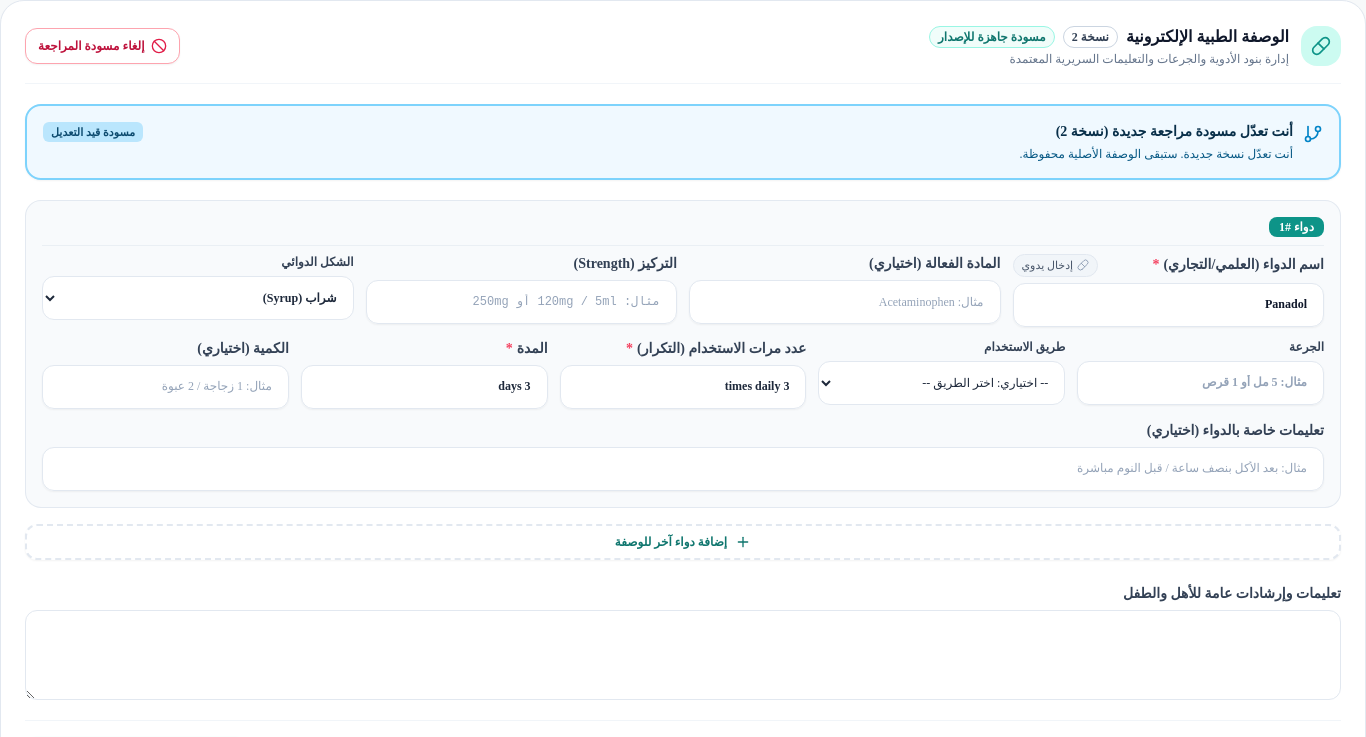
Test: Prescription Revision Cancellation Workflow (إلغاء مسودة مراجعة الوصفة الطبية) › 3. ElectronicPrescriptionSection UI Cancellation Workflow › clicking "إلغاء مسودة المراجعة" opens confirmation modal; clicking "رجوع" closes without cancelling
Open modal
Click the button with test id "cancel-revision-draft-btn" at (102,46), box [25,28,180,64]
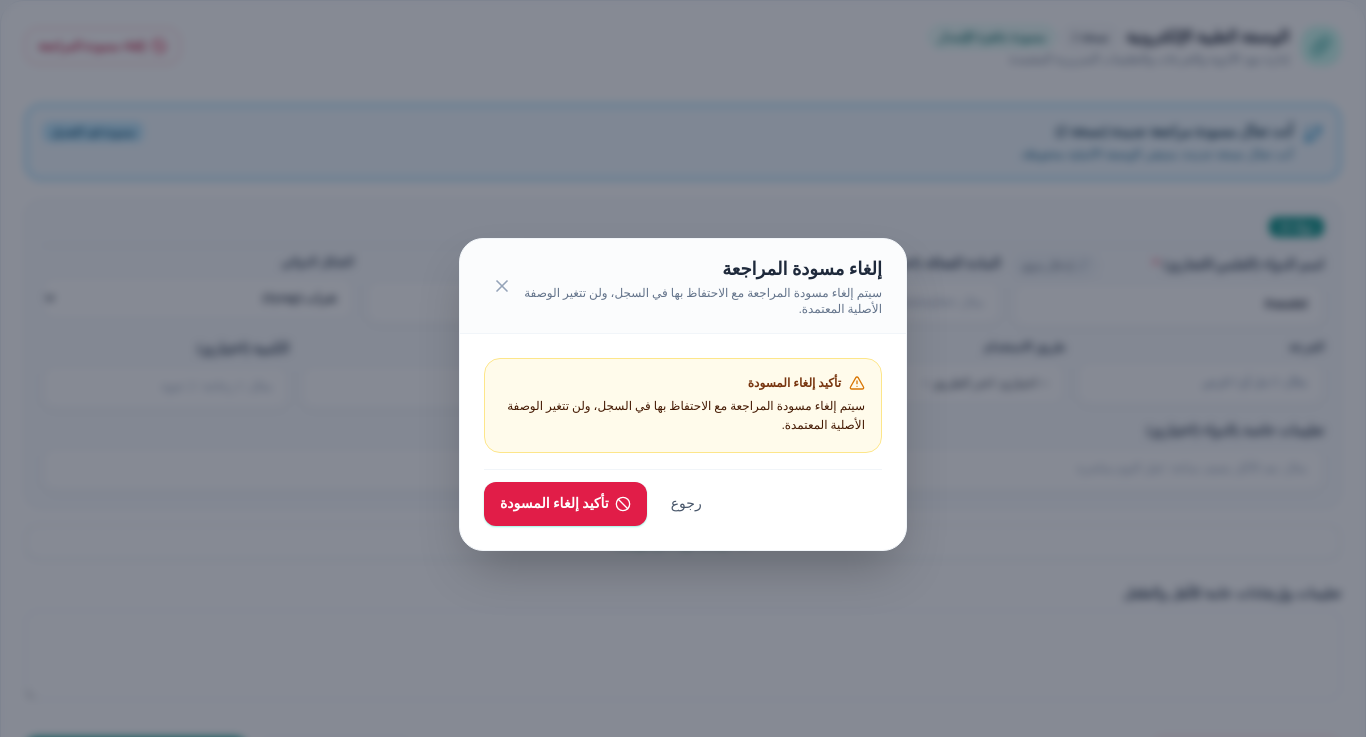
Expected: the button with test id "cancel-revision-back-btn" is shown
Expected: the button with test id "confirm-cancel-revision-draft-btn" is shown, [484,482,647,526]
Click "رجوع"
Click the button with test id "cancel-revision-back-btn" at (686,504), box [655,482,718,526]
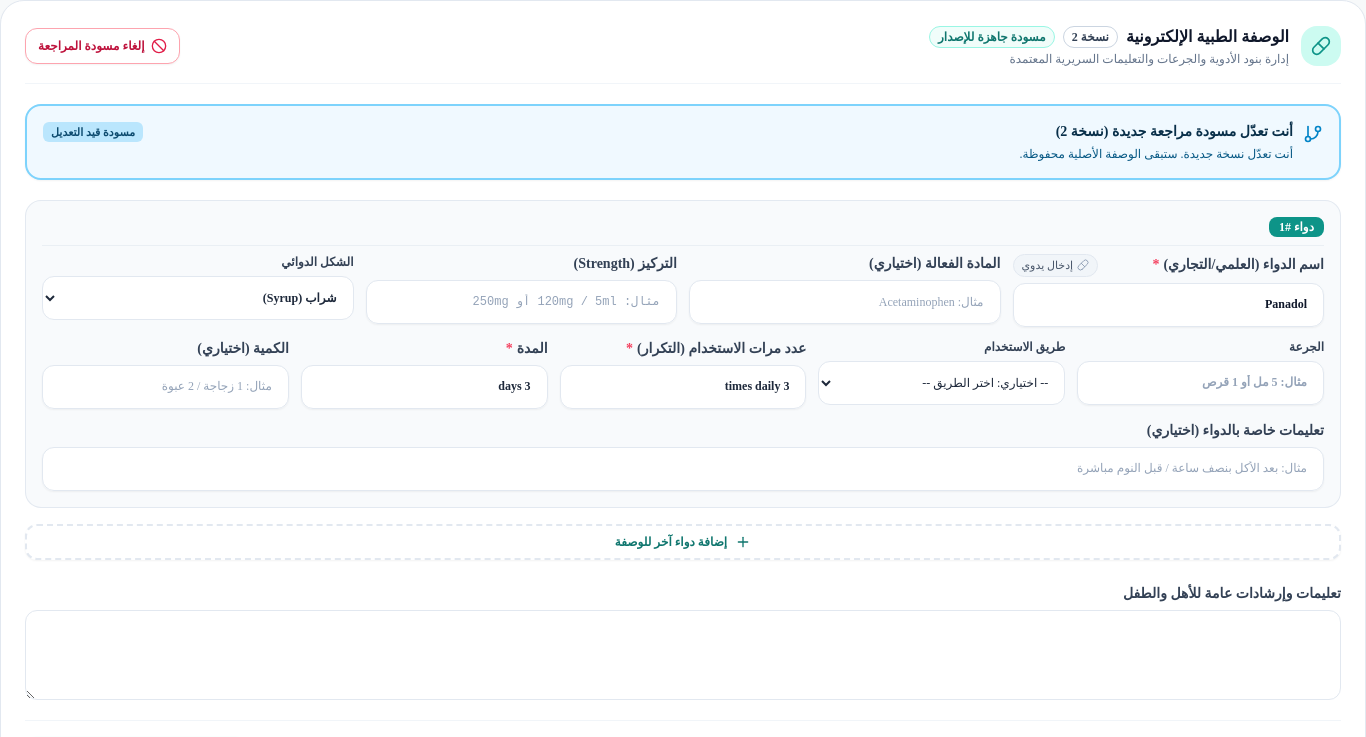
Expected: the button with test id "confirm-cancel-revision-draft-btn" is gone
